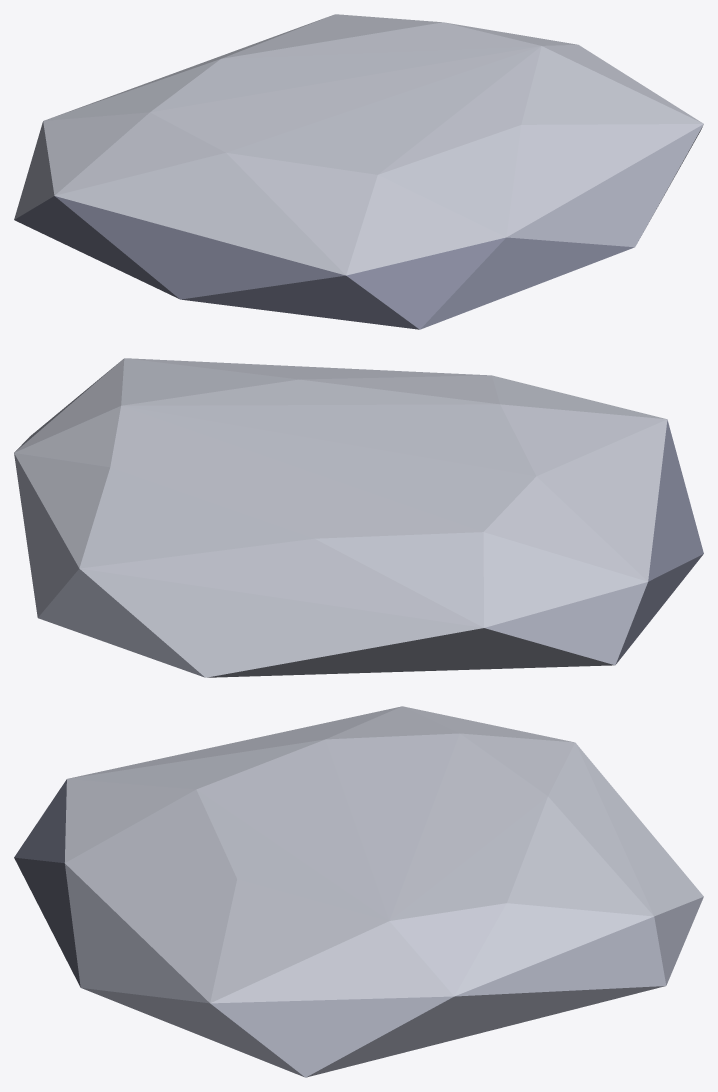
Rendered from stone_smallFlatA.glb.
The picture shows the model from 3 angles, top to bottom: view 1: azimuth 30°, elevation 25°; view 2: azimuth 150°, elevation 25°; view 3: azimuth 270°, elevation 25°; orthographic projection. The views are drawn at different scales.
Parts seen in each view (by area): view 1: stone_smallFlatA; view 2: stone_smallFlatA; view 3: stone_smallFlatA.
Boxes of the visible parts, x1,y1,x2,y2 form: stone_smallFlatA: [14, 14, 703, 329]; stone_smallFlatA: [14, 358, 703, 677]; stone_smallFlatA: [14, 706, 703, 1077].
Bounding box in the file's own units: 0.4336 × 0.0582 × 0.3929.
1 material, 1 textured.
